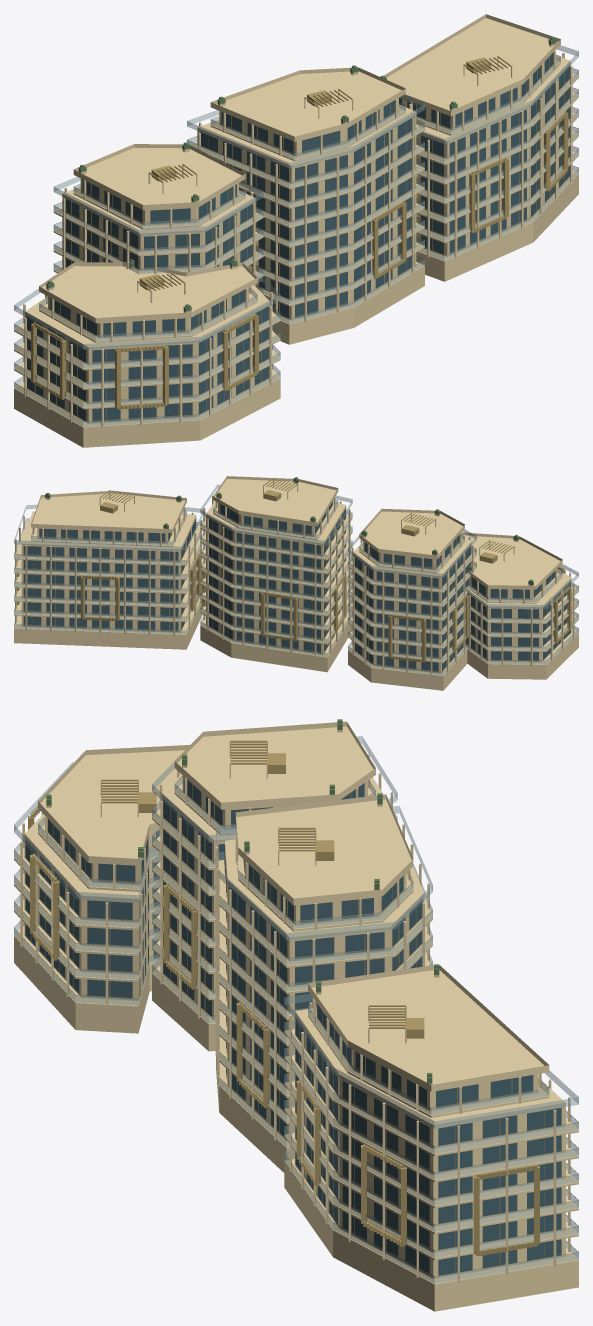
Rendered from ta-monita-28.glb.
3 views of the same model, one above another, from view 1: azimuth 30°, elevation 25°; view 2: azimuth 150°, elevation 25°; view 3: azimuth 270°, elevation 25° (orthographic). The views are drawn at different scales.
Parts seen in each view (by area): view 1: Hochblock C, Westblock A, Ostblock D, Hochblock B; view 2: Ostblock D, Hochblock C, Hochblock B, Westblock A; view 3: Ostblock D, Hochblock C, Westblock A, Hochblock B.
Boxes of the visible parts, x1,y1,x2,y2 form: Hochblock C: (187, 65, 424, 344); Westblock A: (14, 259, 280, 447); Ostblock D: (380, 14, 578, 281); Hochblock B: (53, 142, 263, 294); Ostblock D: (14, 490, 203, 649); Hochblock C: (200, 476, 352, 672); Hochblock B: (348, 508, 476, 690); Westblock A: (461, 532, 578, 679); Ostblock D: (284, 964, 578, 1311); Hochblock C: (215, 793, 432, 1172); Westblock A: (14, 745, 189, 1033); Hochblock B: (152, 719, 397, 1051).
Bounding box in the file's own units: 107 × 32.98 × 61.06.
